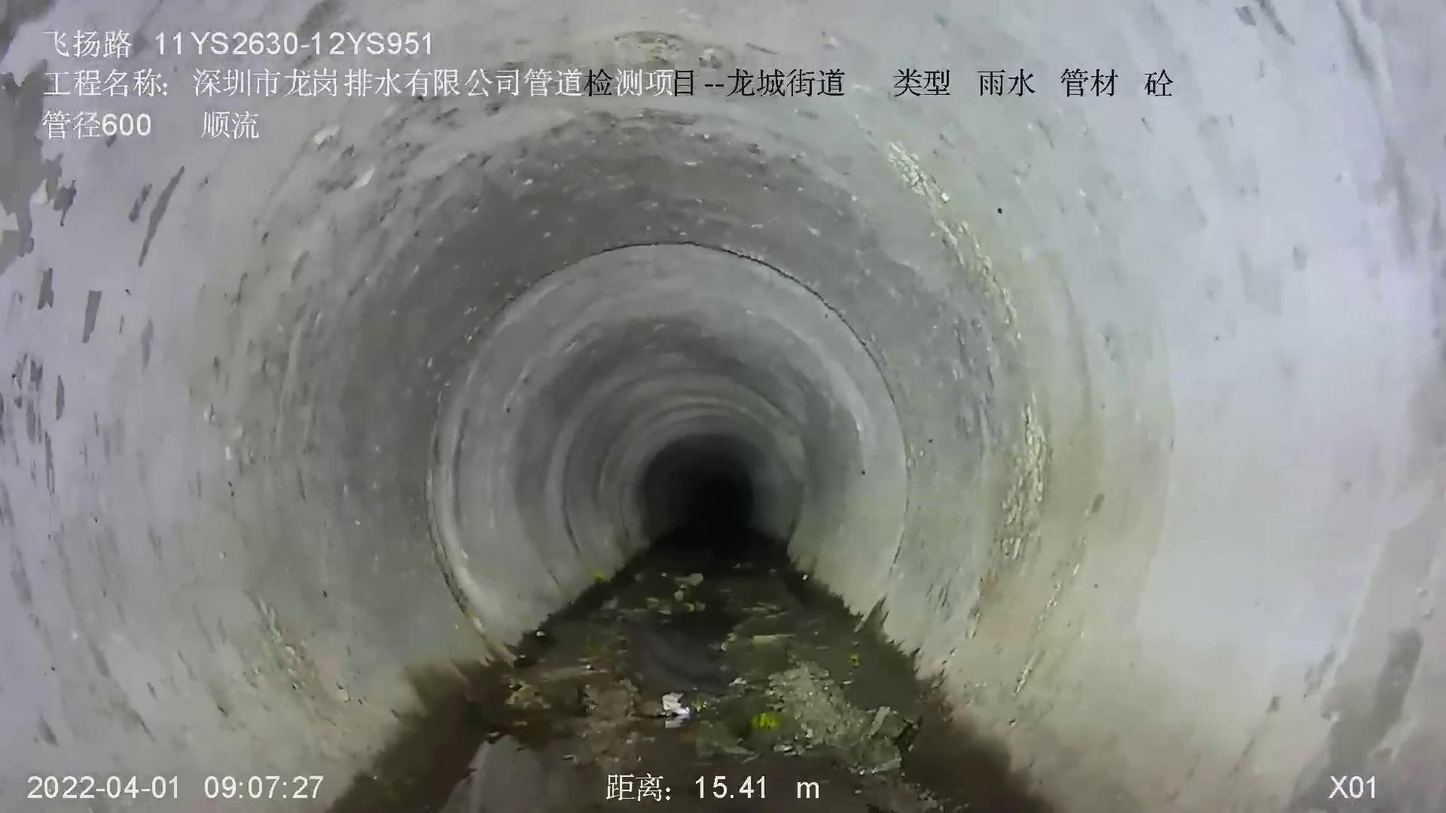CJ: (438, 527, 972, 812)
CKTJ: (411, 237, 916, 674)
